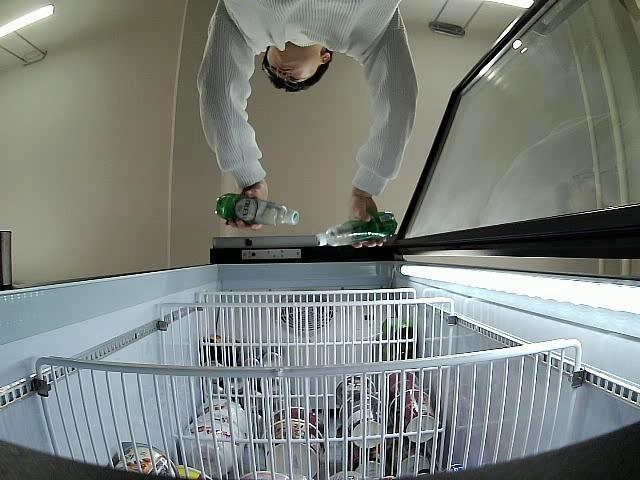18_trevi: (215, 192, 302, 228), (317, 211, 398, 245)
